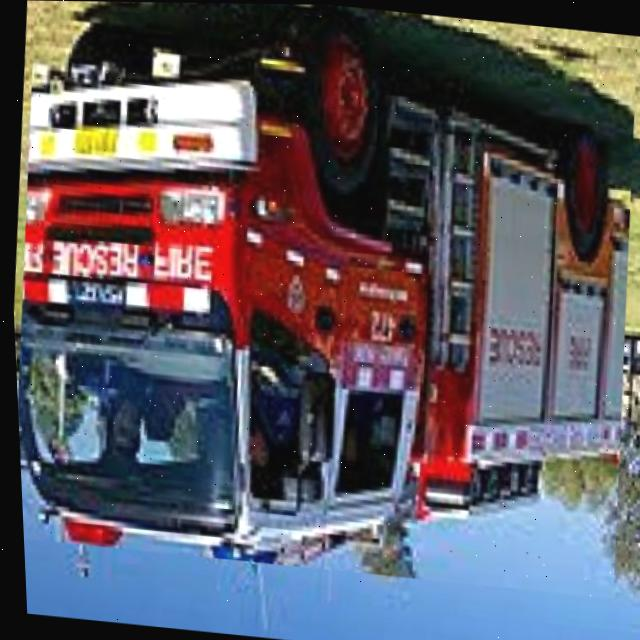Fire Truck: (0, 0, 640, 596)
